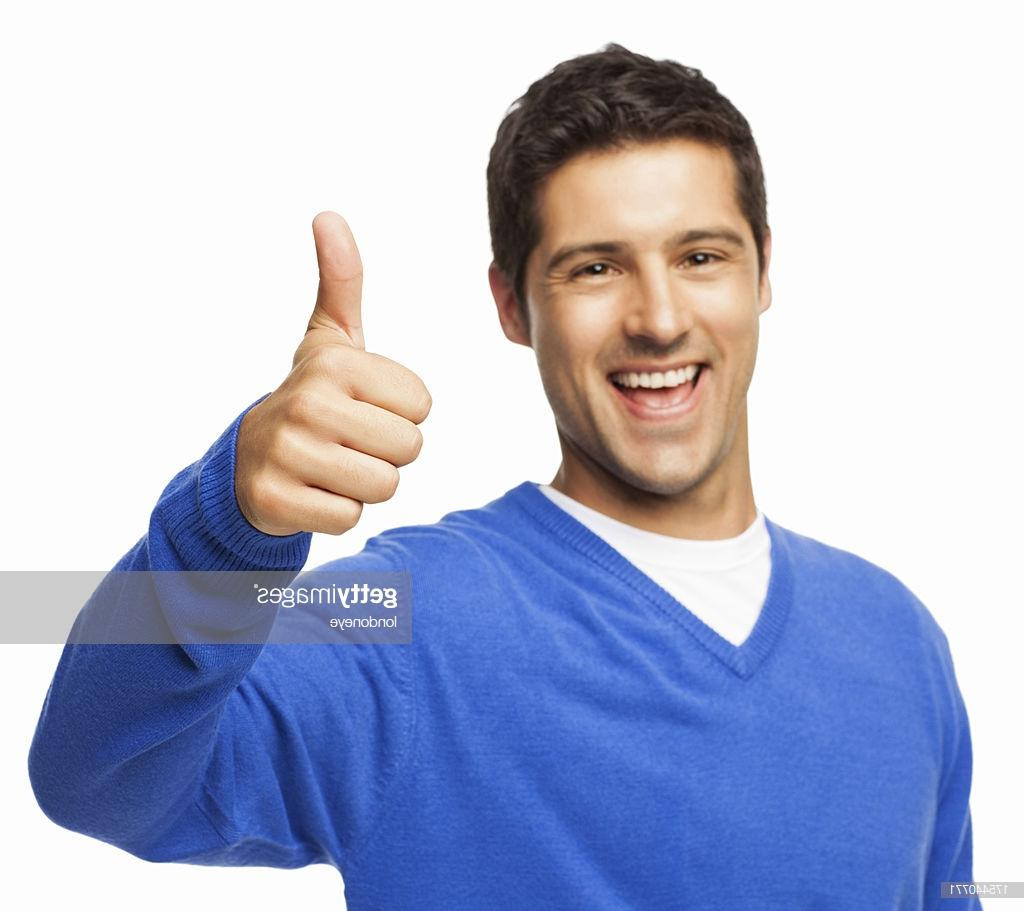thumbsup: (246, 208, 433, 537)
